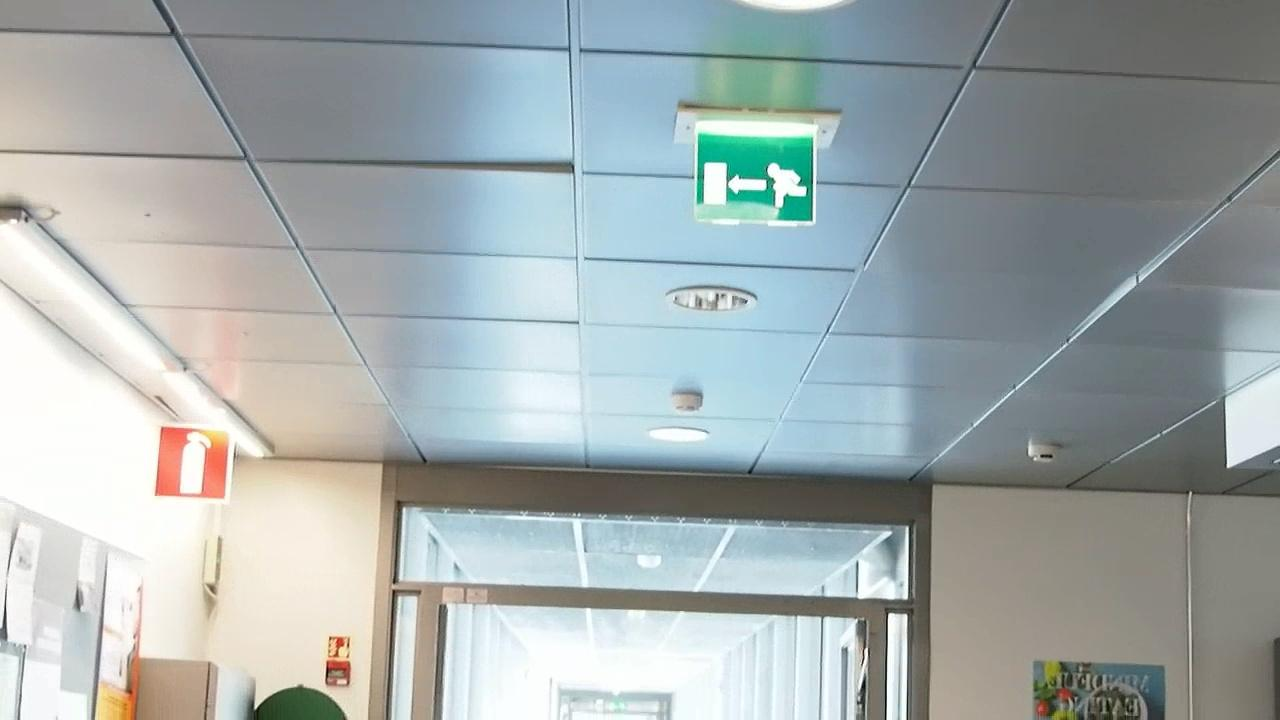exit: (693, 127, 819, 223)
fireextinguisher: (152, 428, 223, 506)
